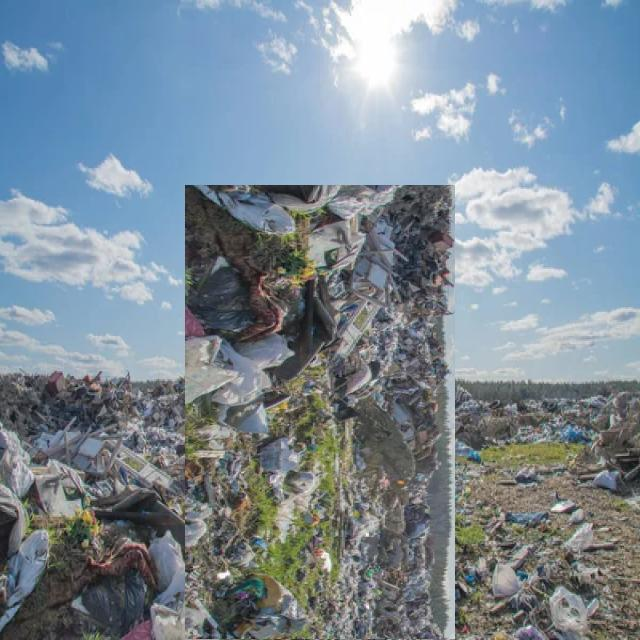garbage: (93, 277, 548, 640)
